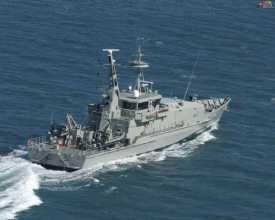warship: (22, 39, 232, 167)
